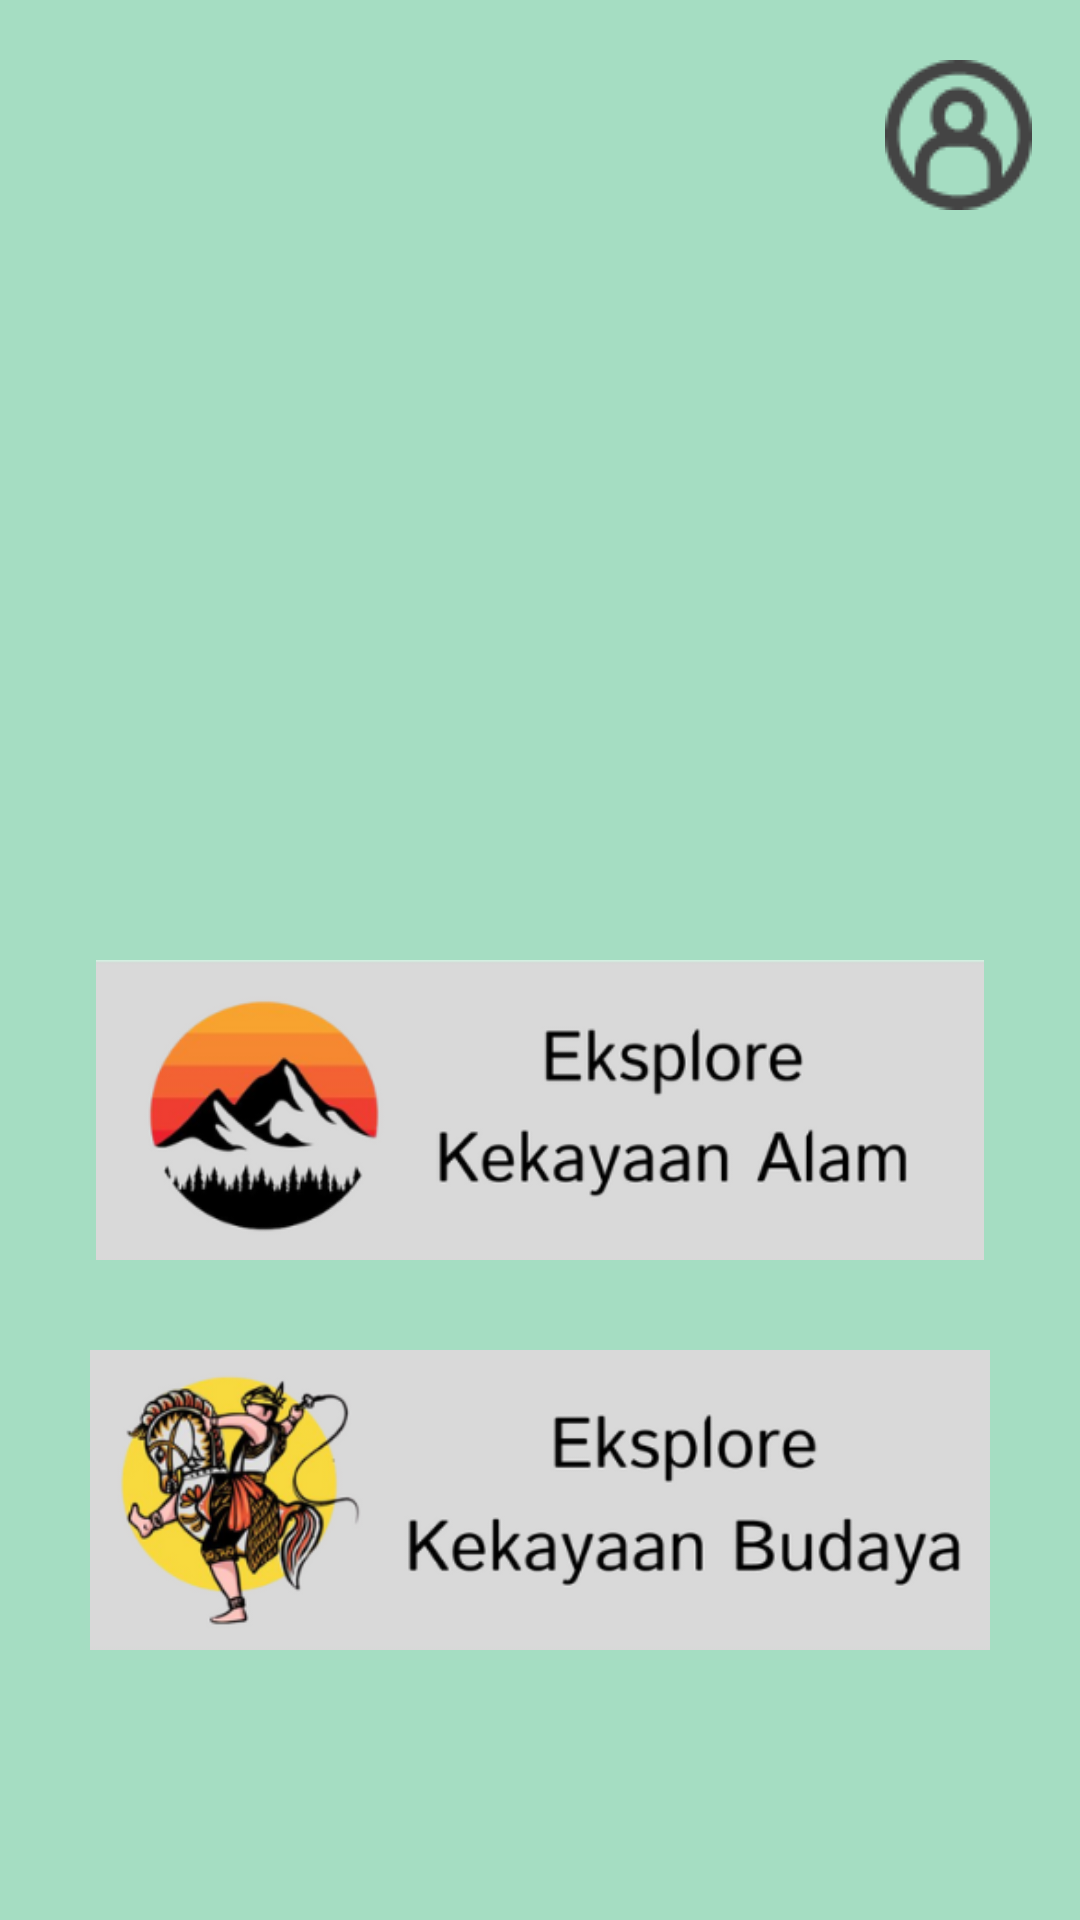

Screen size 1080w x 1920h. Icon name, then its center in pixels as [x,y]:
profil: [958,135]
